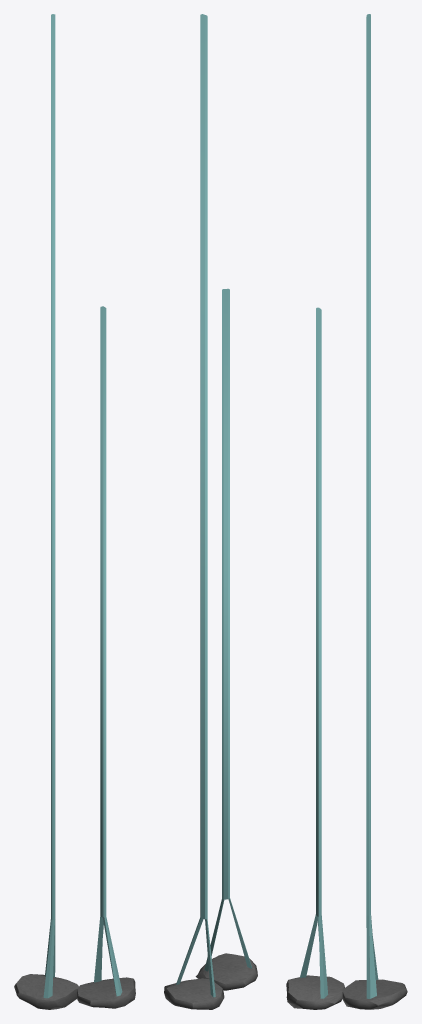
The model's file is elevators.fbx.
3 renders of one model, left to right at view 1: azimuth 90°, elevation 25°; view 2: azimuth 150°, elevation 25°; view 3: azimuth 270°, elevation 25°, orthographic.
Parts seen in each view (by area): view 1: polySurface488, polySurface489; view 2: polySurface488, polySurface489; view 3: polySurface488, polySurface489.
Part boxes in pixels (box(x1,y1,x2,y2)): polySurface488: box(14, 14, 78, 1009); polySurface489: box(76, 306, 135, 1008); polySurface488: box(164, 14, 224, 1009); polySurface489: box(195, 288, 257, 990); polySurface488: box(342, 14, 407, 1009); polySurface489: box(286, 307, 344, 1009).
Bounding box in the file's own units: 1.57 × 25.44 × 2.84.
